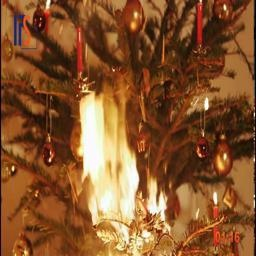fire: (68, 82, 176, 242)
